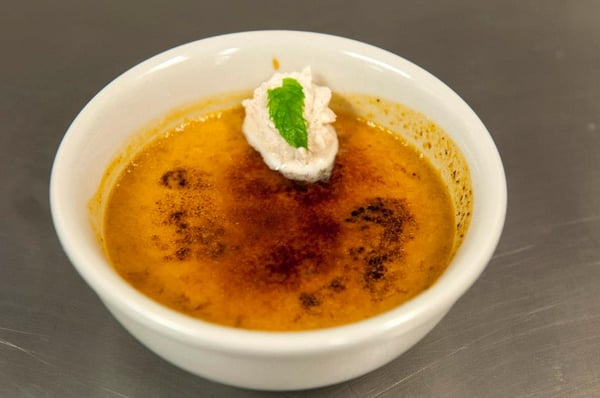curry: (267, 73, 309, 151)
sushi: (49, 29, 527, 389)
